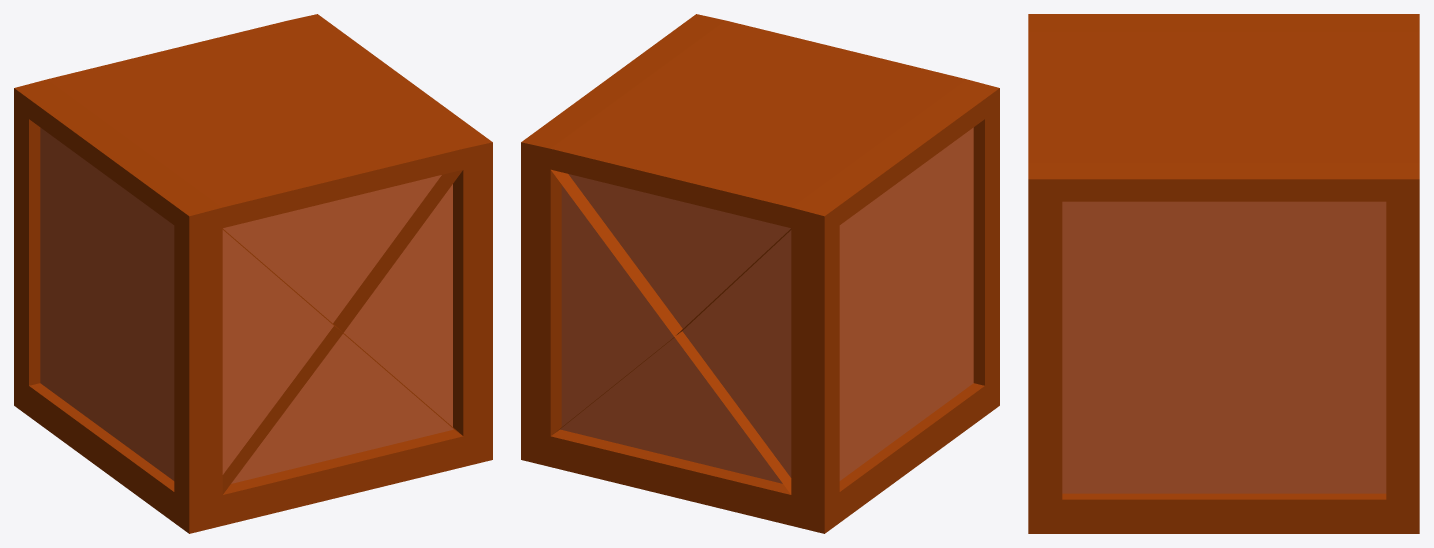
File: Caixa.fbx
The picture shows the model from 3 angles, left to right: view 1: azimuth 30°, elevation 25°; view 2: azimuth 150°, elevation 25°; view 3: azimuth 270°, elevation 25°; orthographic projection. The views are drawn at different scales.
Parts seen in each view (by area): view 1: Cube; view 2: Cube; view 3: Cube.
Boxes of the visible parts, bbox=[...] form: Cube: bbox=[14, 14, 492, 533]; Cube: bbox=[521, 14, 999, 533]; Cube: bbox=[1028, 14, 1419, 533].
Bounding box in the file's own units: 407 × 407 × 407.
